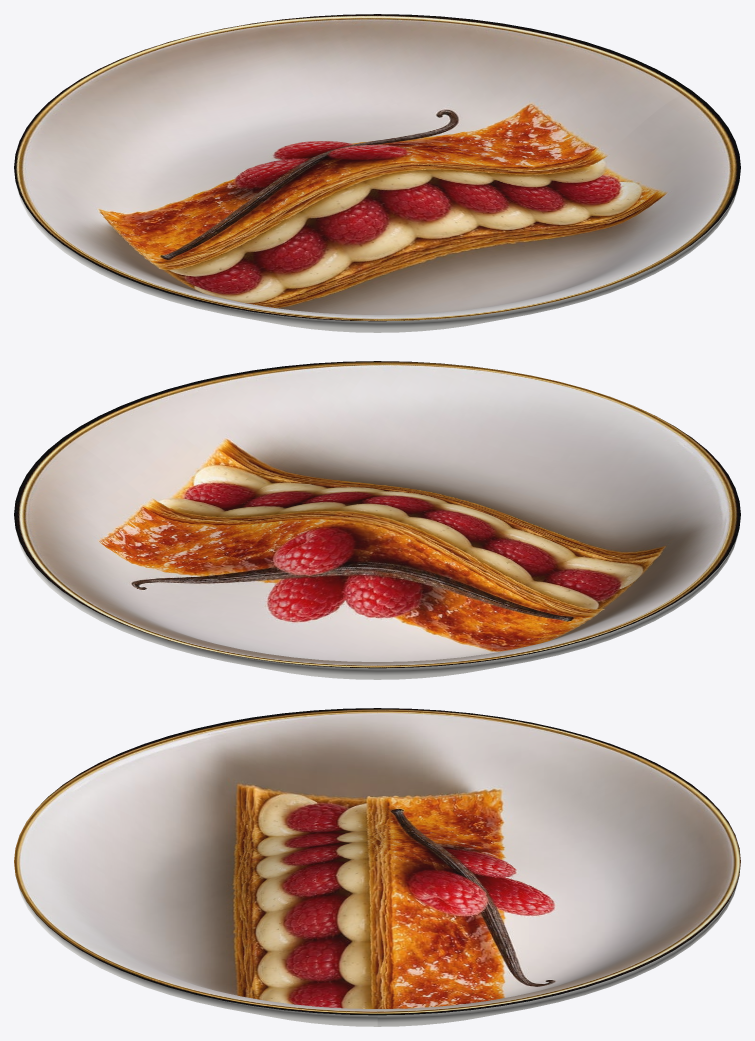
The model's file is mille-feuille.glb.
3 views of the same model, one above another, from view 1: azimuth 30°, elevation 25°; view 2: azimuth 150°, elevation 25°; view 3: azimuth 270°, elevation 25° (orthographic).
Visible parts, largest first — view 1: dish; view 2: dish; view 3: dish.
Part boxes in pixels (x1=…): dish: x1=14, y1=14, x2=740, y2=332; dish: x1=14, y1=361, x2=740, y2=679; dish: x1=14, y1=708, x2=740, y2=1026.
Size of the model in its own units: 0.24 by 0.025 by 0.24.
Materials: 2 (1 with a texture image).
